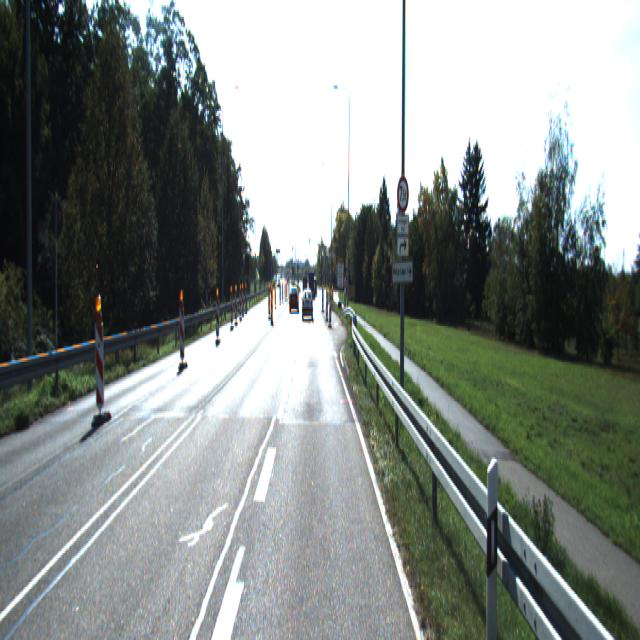Car: (302, 291, 313, 320), (288, 289, 298, 315)
